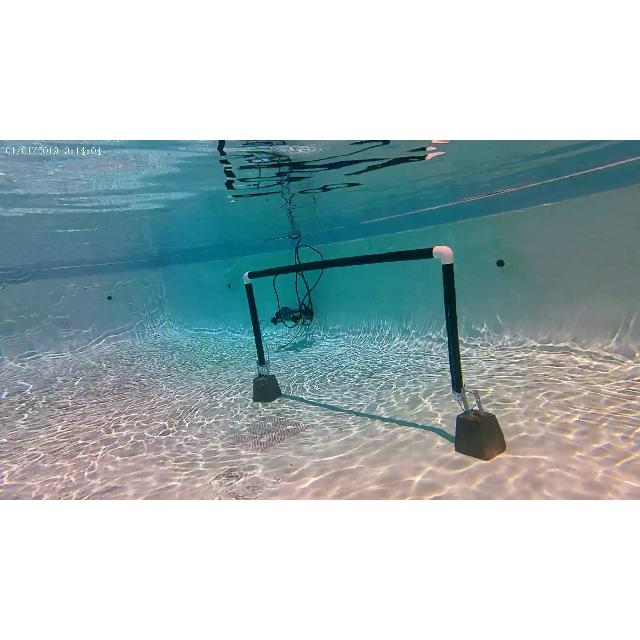prequal gate: (243, 245, 462, 401)
prequal gate leg l: (236, 268, 274, 370)
prequal gate leg r: (431, 244, 469, 402)
